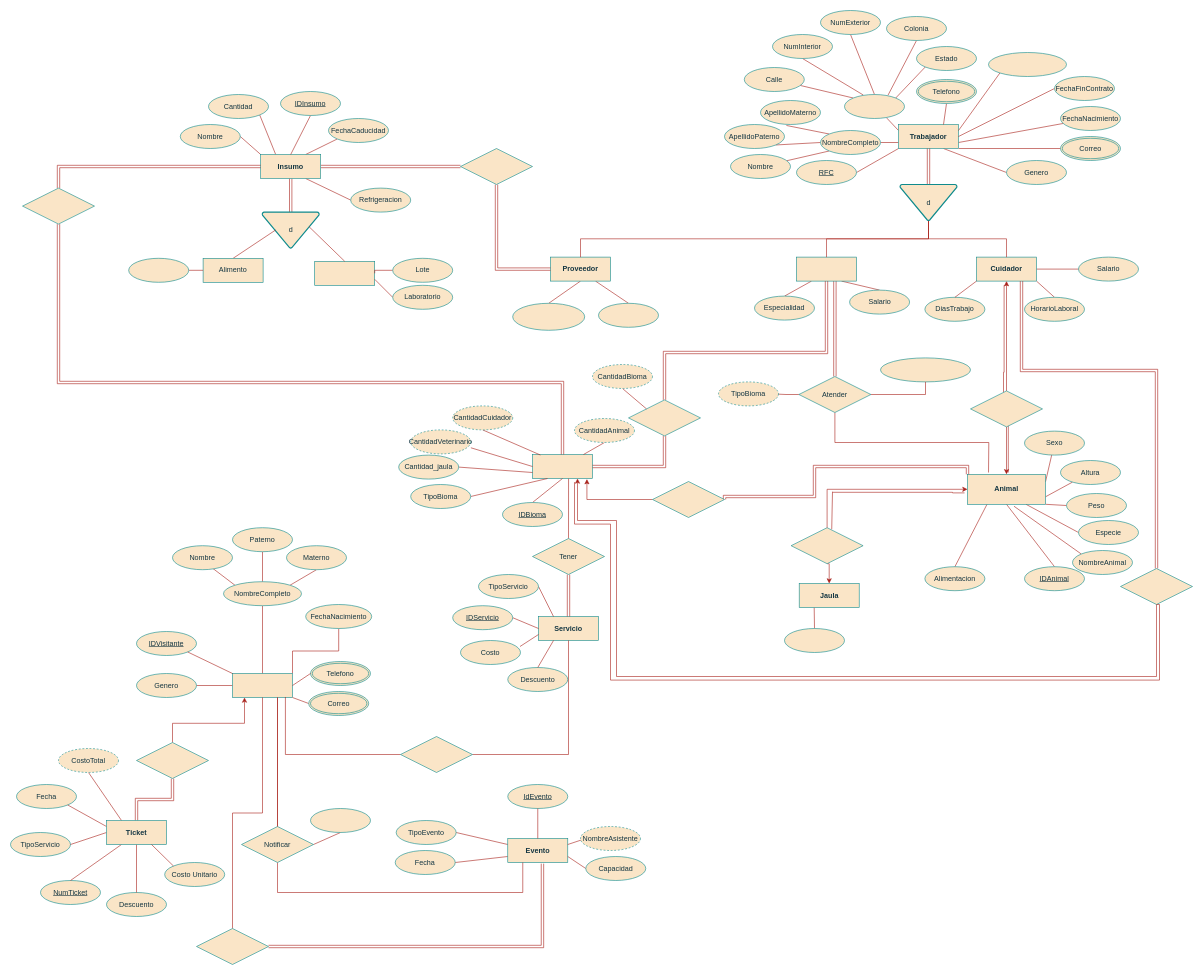
The diagram is 1203 pixels wide and 975 high, and some of its shapes have lost their labels. The shapes that lost their labels are listed below. From the top down, each one's centre as x and y in pixels, then its label:
At point 1027,64: "FechaInicioContrato".
At point 874,106: "Direccion".
At point 496,166: "Proveer".
At point 58,206: "Distribuir".
At point 158,270: "TipoAlimento".
At point 344,273: "Medicina".
At point 826,268: "Veterinario".
At point 548,316: "FrecuenciaServicio".
At point 628,315: "CostoServicio".
At point 925,369: "IndicacionesMedicas".
At point 664,417: "Trabajar".
At point 1006,408: "Cuidar".
At point 562,466: "Bioma".
At point 688,499: "Pertenecer".
At point 826,545: "Estar".
At point 1156,586: "Laborar".
At point 814,640: "IDJaula".
At point 262,685: "Visitante".
At point 172,760: "Generar".
At point 436,754: "Comprar".
At point 340,820: "TipoNotificacion".
At point 232,946: "Visitar".
